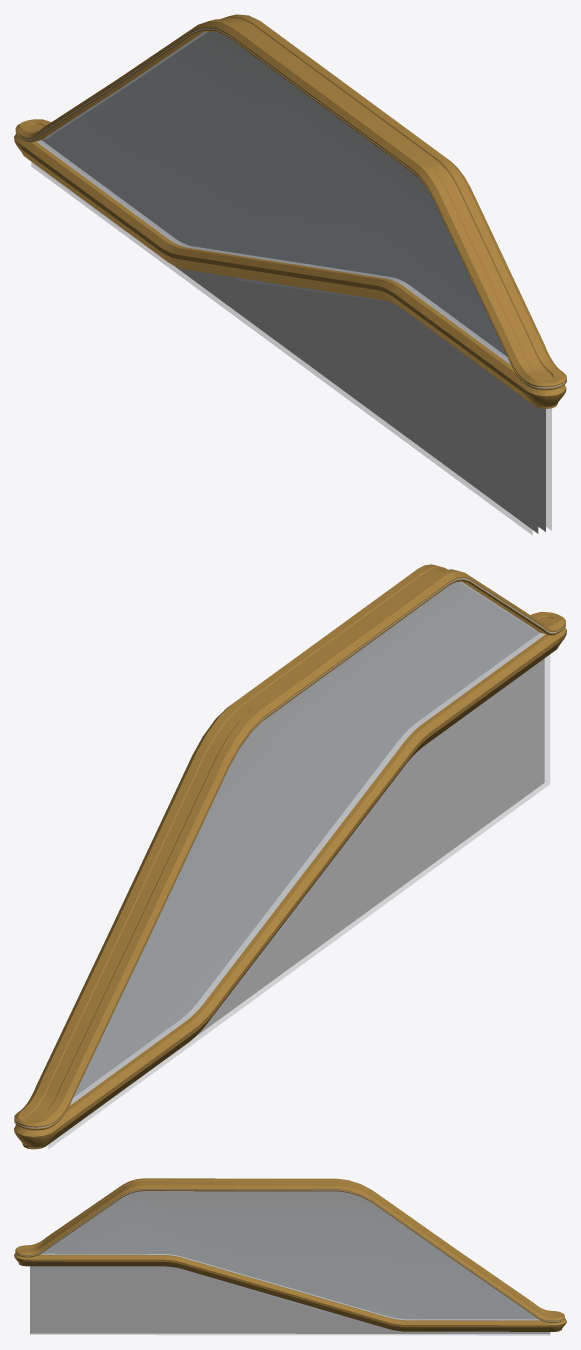
The model's file is BSPKWL_Ramp.fbx.
3 renders of one model, top to bottom at view 1: azimuth 30°, elevation 25°; view 2: azimuth 150°, elevation 25°; view 3: azimuth 270°, elevation 25°, orthographic. The views are drawn at different scales.
Parts seen in each view (by area): view 1: Circle.003; view 2: Circle.003; view 3: Circle.003.
Part boxes in pixels (x1,y1,x2,y2): Circle.003: (14, 14, 566, 534); Circle.003: (14, 564, 566, 1149); Circle.003: (14, 1178, 566, 1335).
Size of the model in its own units: 174 by 1232 by 4096.
